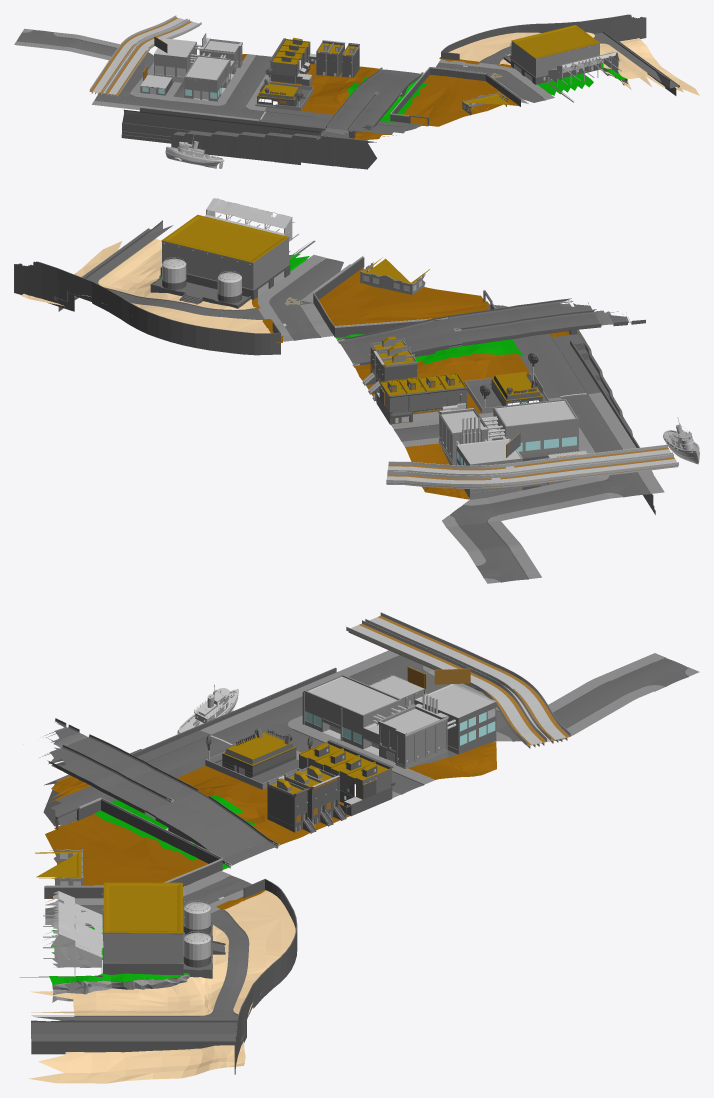
The model's file is bronx_e_1.FBX.
The picture shows the model from 3 angles, top to bottom: view 1: azimuth 30°, elevation 25°; view 2: azimuth 150°, elevation 25°; view 3: azimuth 270°, elevation 25°; orthographic projection. The views are drawn at different scales.
Visible parts, largest first — view 1: unnamed, null; view 2: unnamed, null; view 3: unnamed, null.
Boxes of the visible parts, x1,y1,x2,y2 form: unnamed: (90, 14, 699, 169); null: (14, 15, 306, 106); unnamed: (14, 198, 699, 514); null: (380, 383, 678, 583); unnamed: (20, 623, 401, 1083); null: (351, 612, 699, 810).
Bounding box in the file's own units: 356 × 41.55 × 258.
